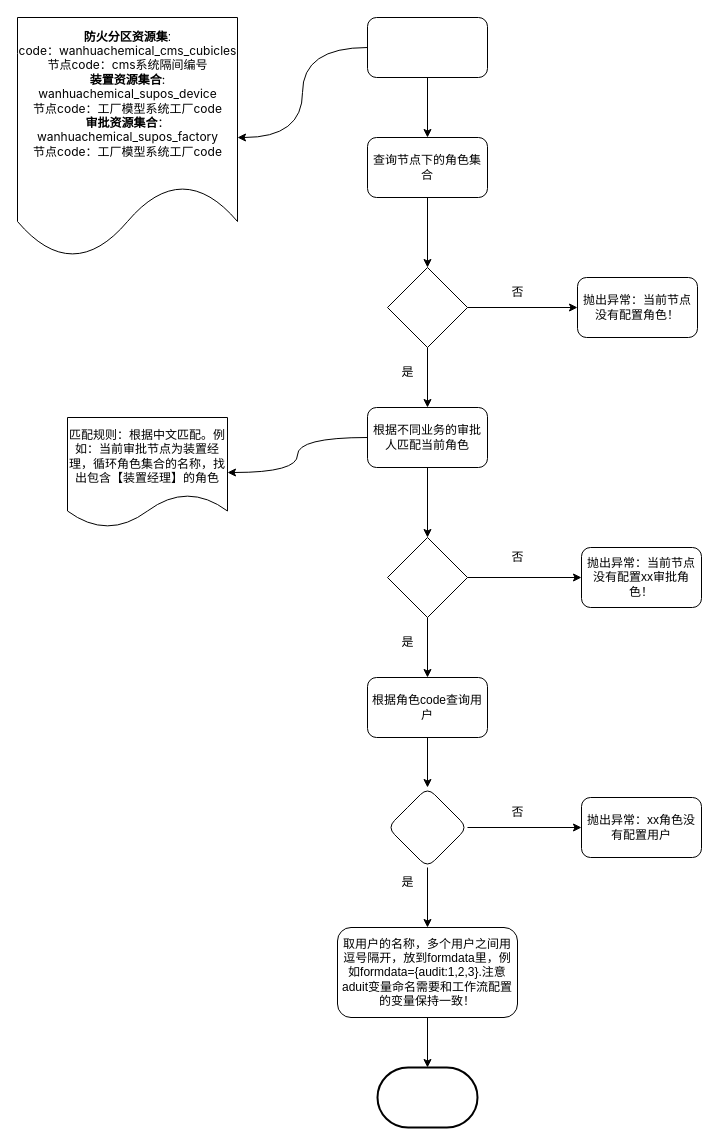
The diagram is 719 pixels wide and 1146 high, and some of its shapes have lost their labels. Here are the shapes that lost their labels. From the top down, the centre of each, then its label:
point (427, 47): 获取资源权限的资源集和节点code
point (427, 307): 集合是否为空？
point (427, 577): 是否存在角色集合？
point (427, 827): 是否存在用户
point (427, 1097): 完成
